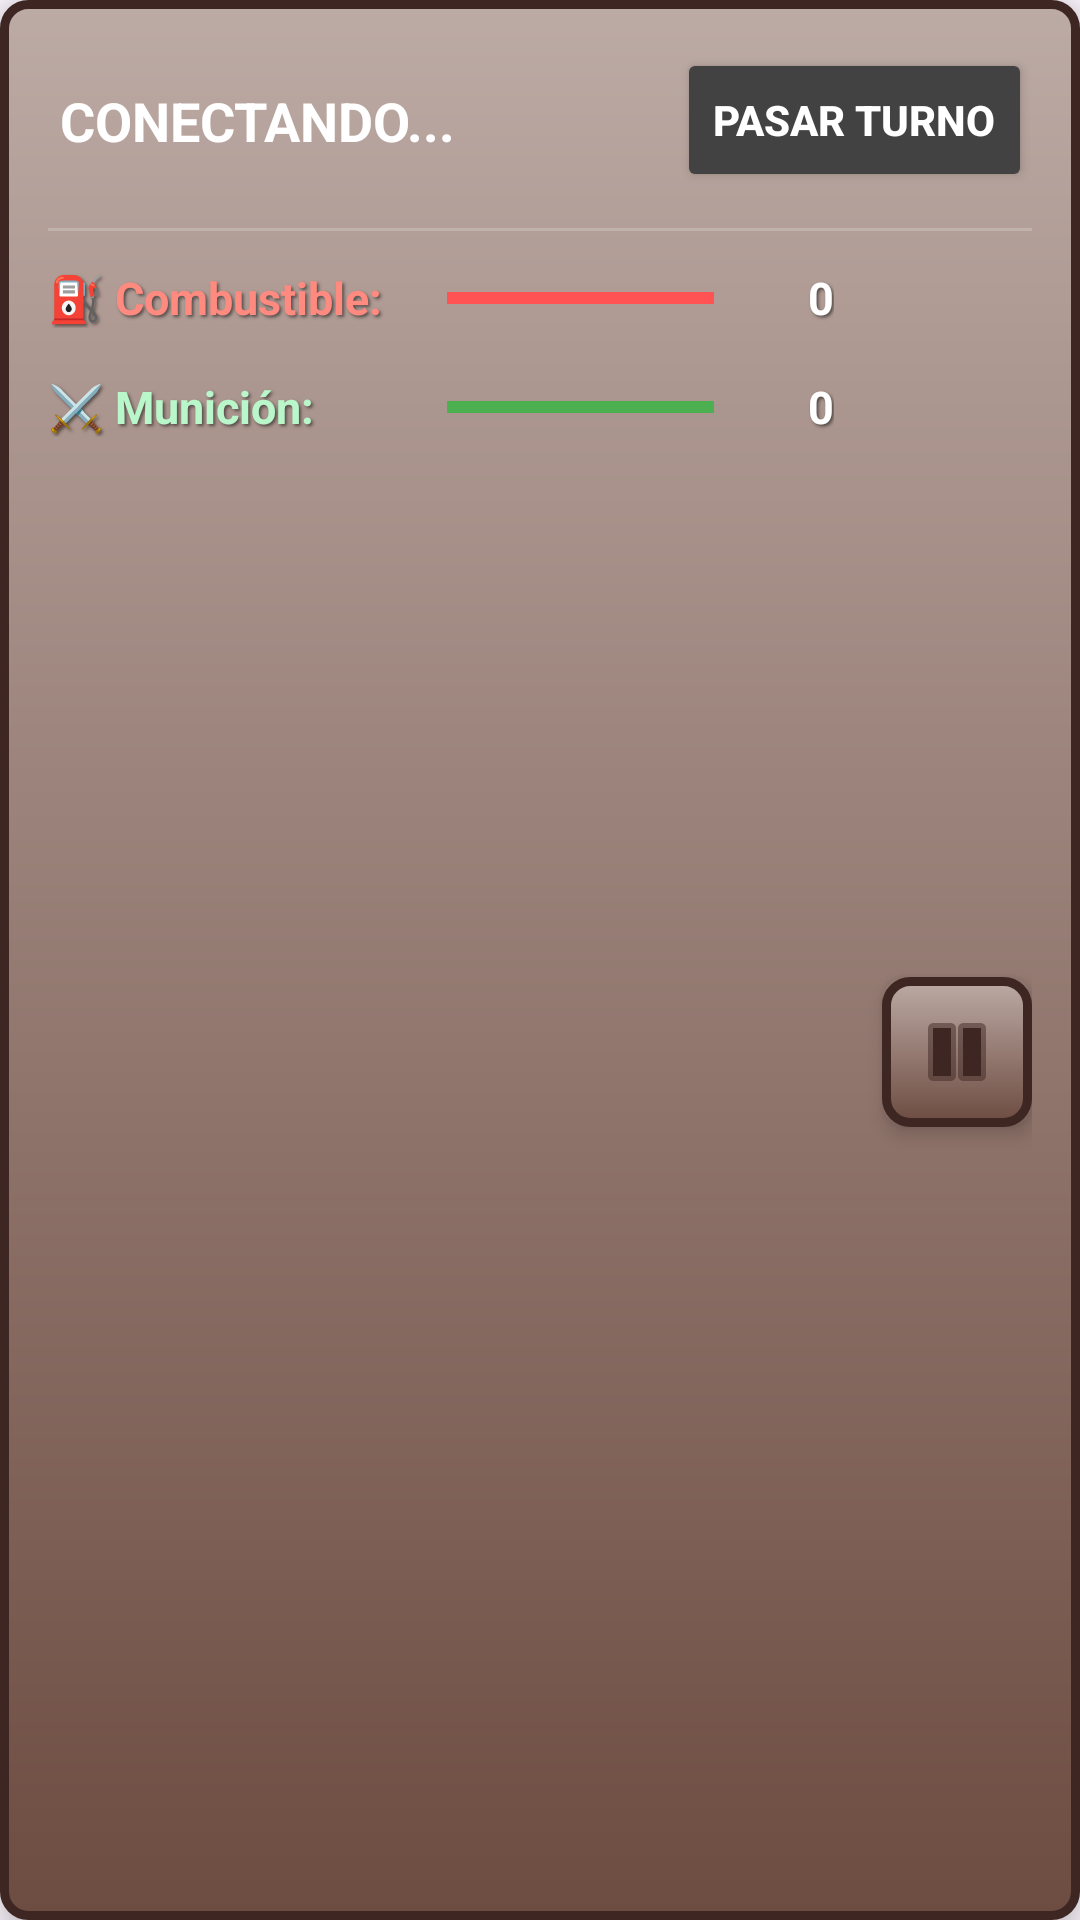

Screen size 1080px×1920px. Icon name, then its box in pixels as (x1, y1, x2, y2):
pause: (882, 977, 1032, 1127)
